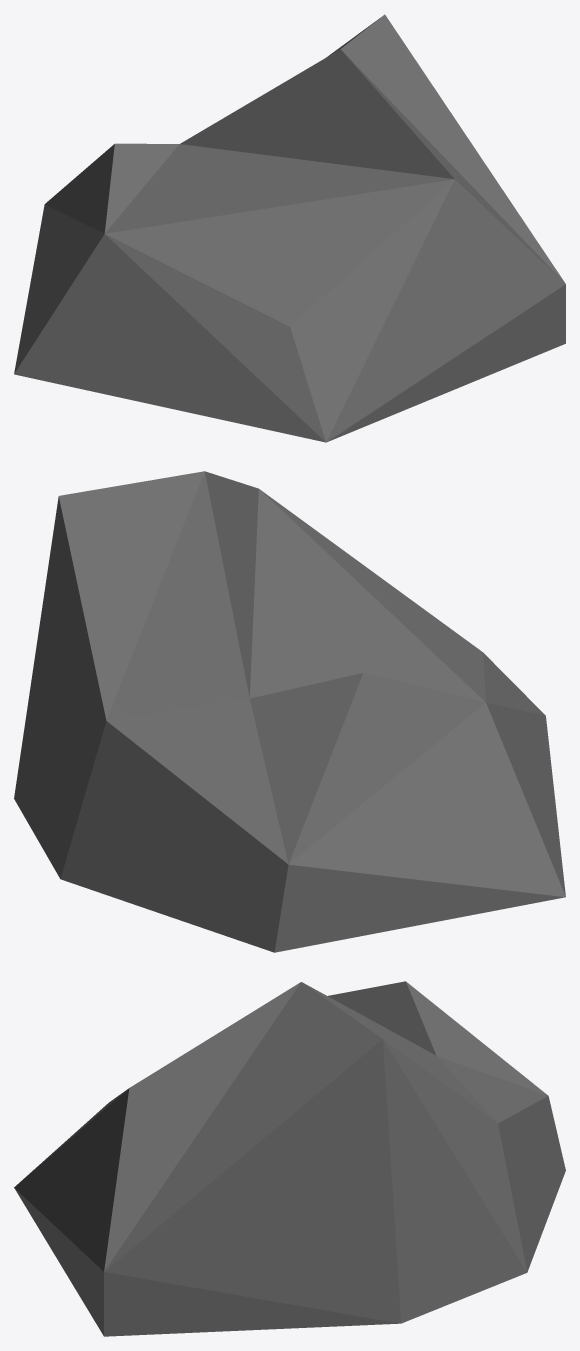
The model's file is Stone_A_20.FBX.
3 renders of one model, top to bottom at view 1: azimuth 30°, elevation 25°; view 2: azimuth 150°, elevation 25°; view 3: azimuth 270°, elevation 25°, orthographic. The views are drawn at different scales.
Visible parts, largest first — view 1: Stone_A_20; view 2: Stone_A_20; view 3: Stone_A_20.
Part boxes in pixels (bbox=[...]): Stone_A_20: bbox=[14, 14, 565, 442]; Stone_A_20: bbox=[14, 471, 565, 952]; Stone_A_20: bbox=[14, 981, 565, 1336].
Size of the model in its own units: 1.24 by 0.6914 by 1.22.
